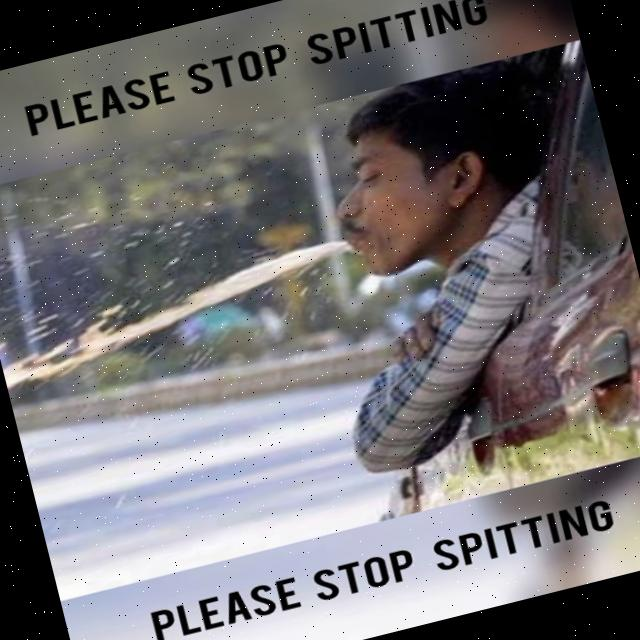spit: (7, 80, 543, 393)
